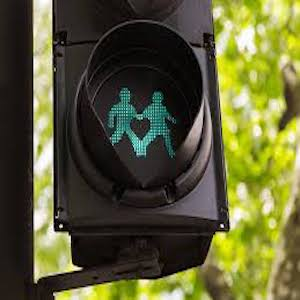green: (103, 82, 184, 159)
